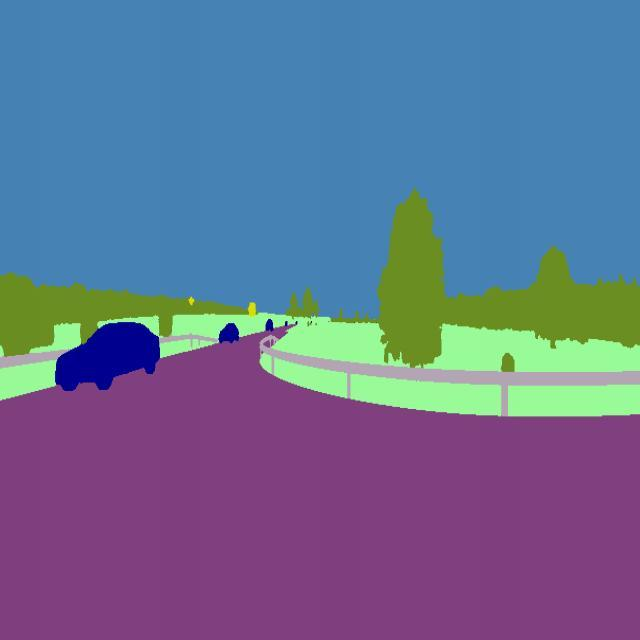safe: (51, 315, 162, 395), (215, 318, 242, 350), (264, 316, 276, 337)
